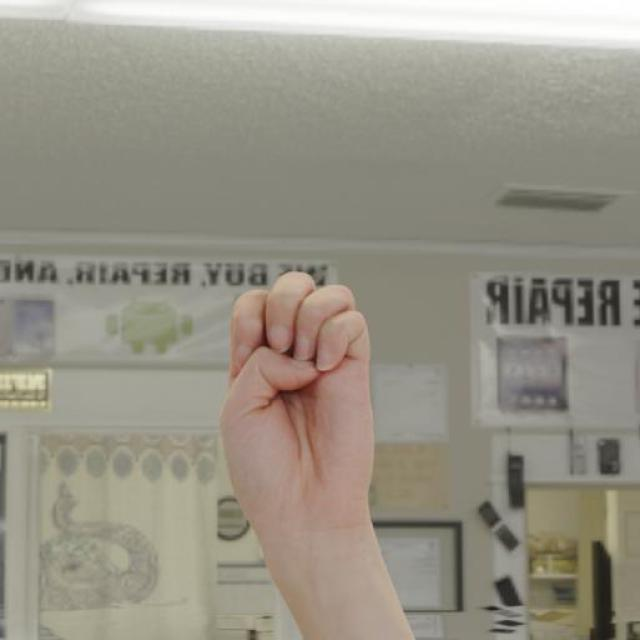E: (222, 268, 381, 516)
